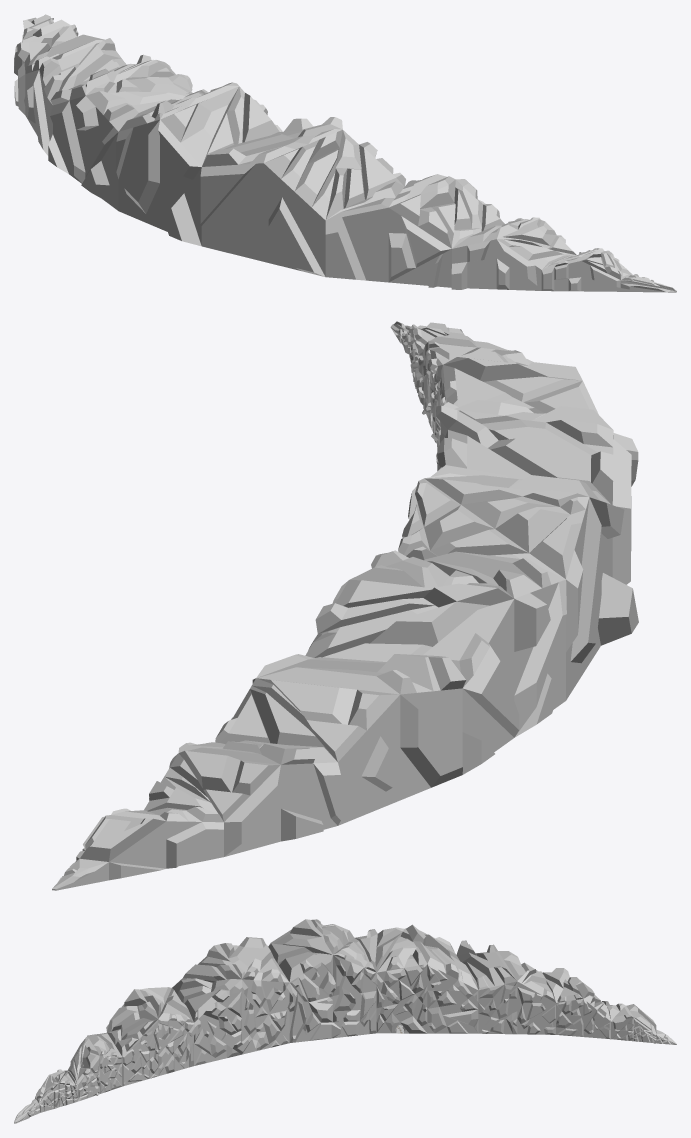
Rendered from new mine exterior.fbx.
The picture shows the model from 3 angles, top to bottom: view 1: azimuth 30°, elevation 25°; view 2: azimuth 150°, elevation 25°; view 3: azimuth 270°, elevation 25°; orthographic projection. The views are drawn at different scales.
Parts seen in each view (by area): view 1: Exterior; view 2: Exterior; view 3: Exterior.
Part boxes in pixels (left/top/right/bottom): Exterior: left=14, top=14, right=676, bottom=292; Exterior: left=52, top=321, right=638, bottom=890; Exterior: left=14, top=919, right=676, bottom=1123.
Size of the model in its own units: 1847 by 585 by 3992.
